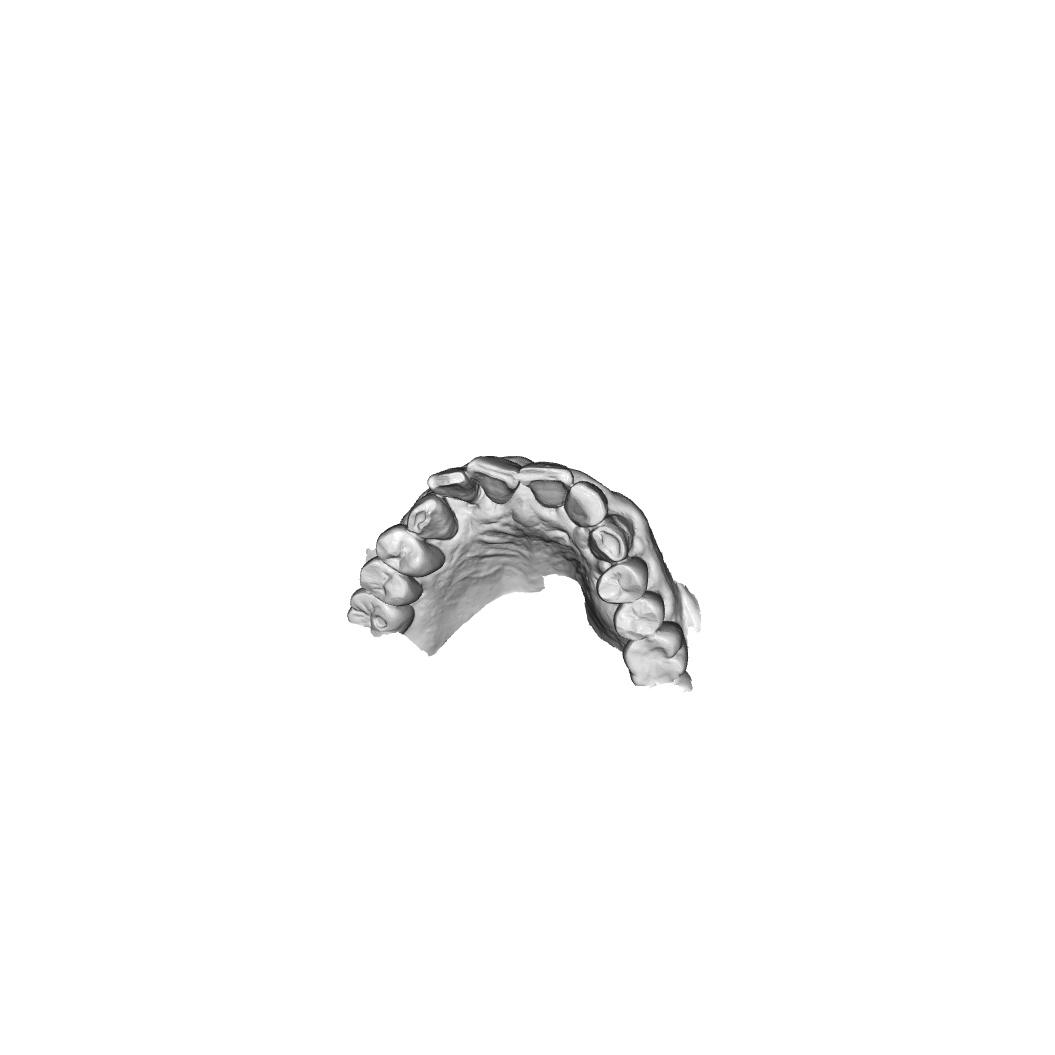canine: (405, 493, 458, 541), (588, 513, 635, 563)
incisor: (466, 455, 520, 506), (520, 461, 574, 510), (563, 480, 609, 528), (426, 466, 479, 504)
molar: (622, 621, 689, 687), (345, 587, 416, 637)
premolar: (374, 523, 446, 578), (359, 555, 423, 607), (612, 590, 666, 641), (596, 556, 649, 605)
